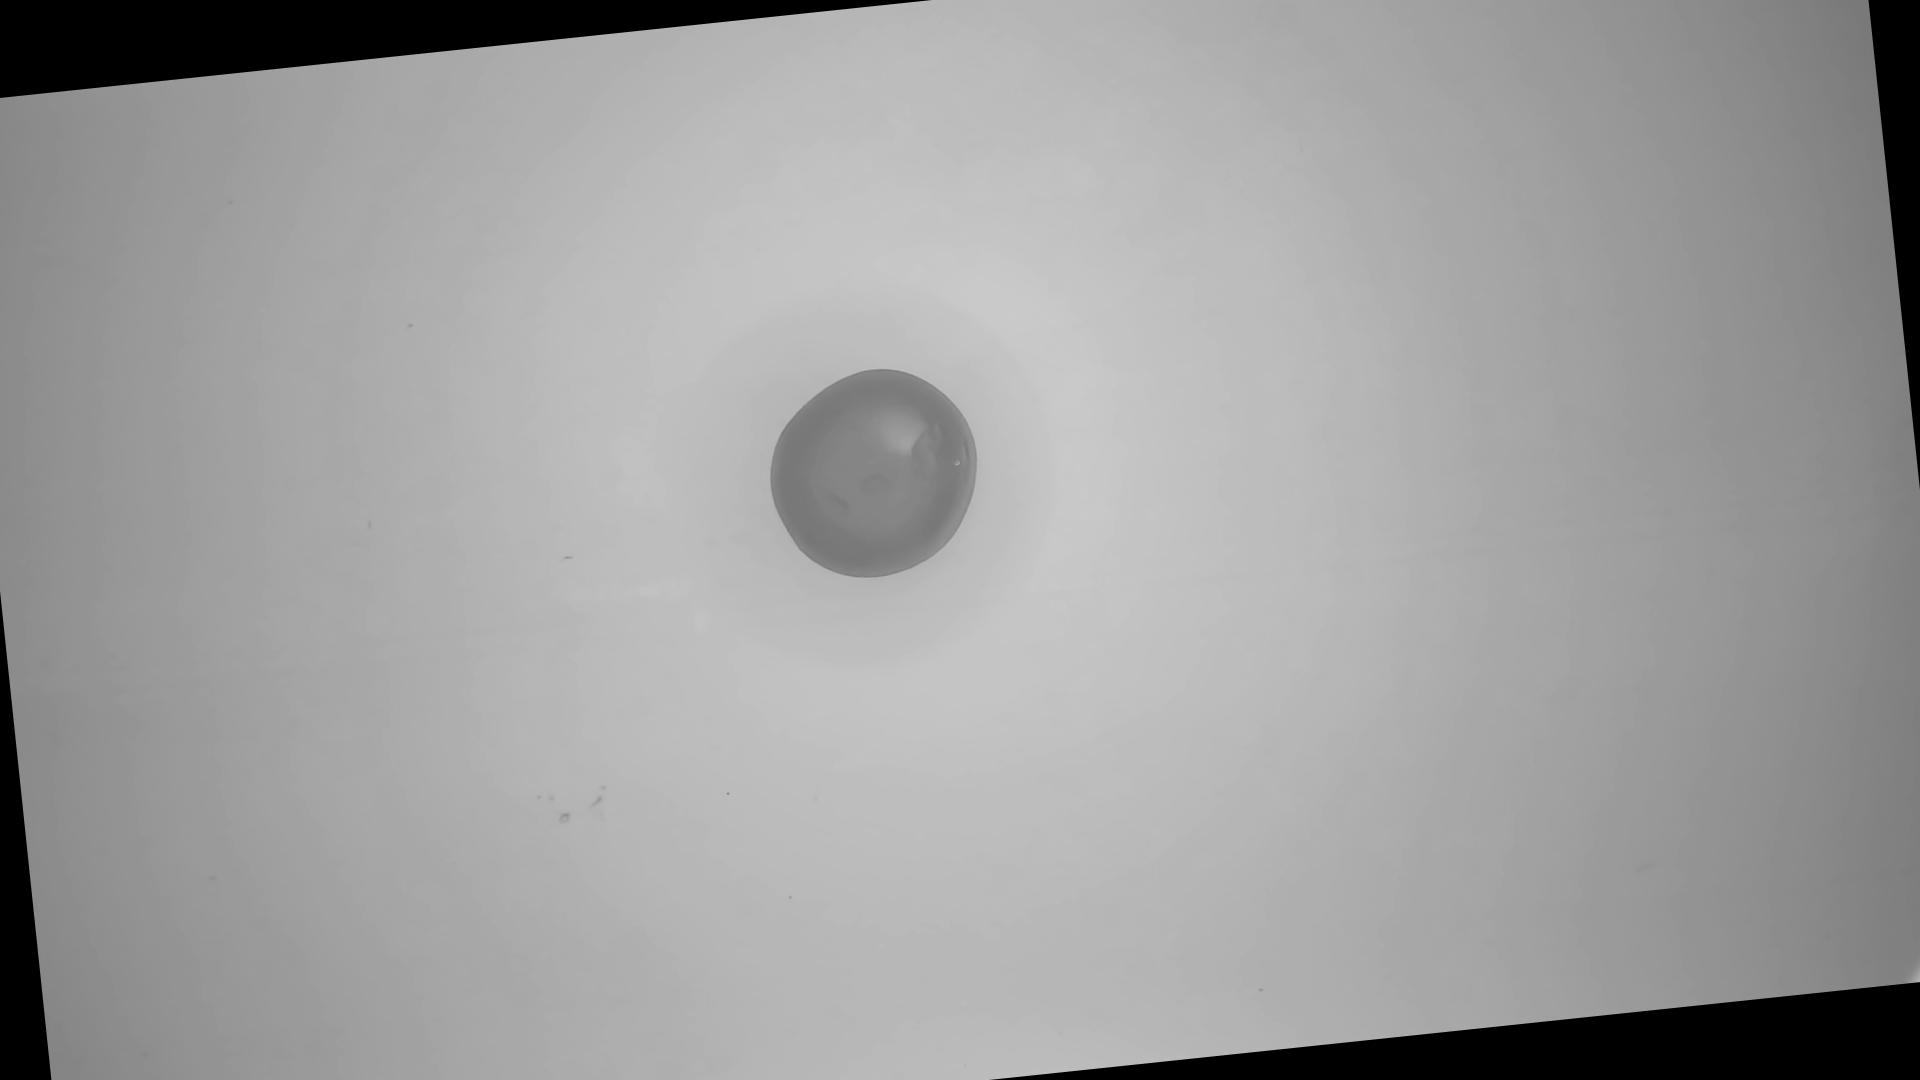abnormal: (760, 359, 993, 592)
